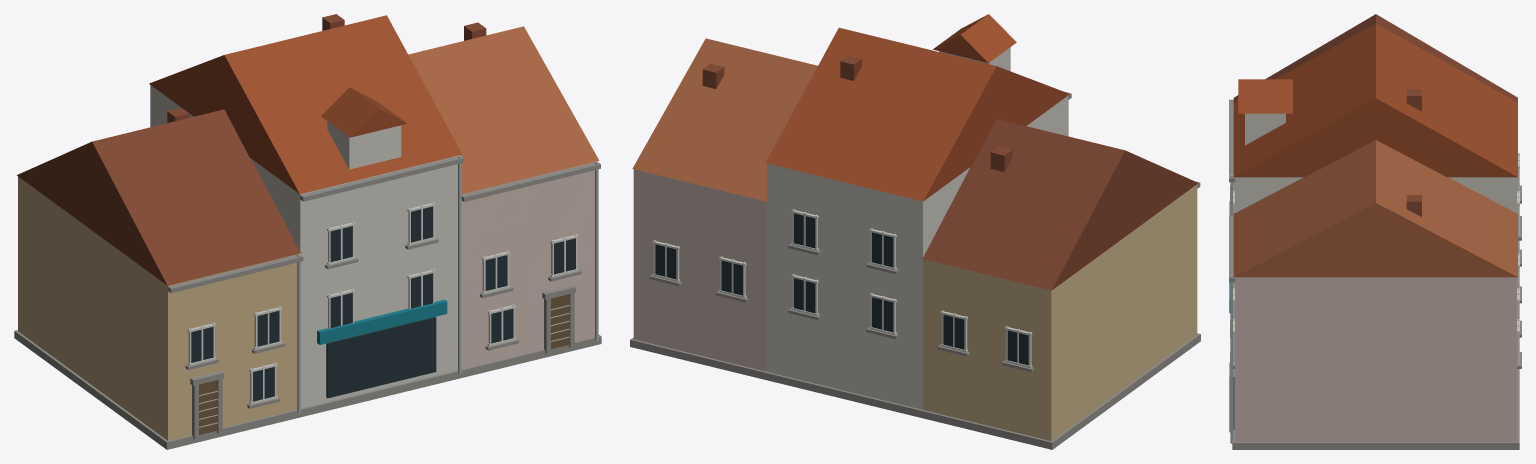
File: Scenery_Townhouse_Old.fbx
3 renders of one model, left to right at view 1: azimuth 30°, elevation 25°; view 2: azimuth 150°, elevation 25°; view 3: azimuth 270°, elevation 25°, orthographic. The views are drawn at different scales.
Visible parts, largest first — view 1: Scenery_Townhouse_Old_LOD0; view 2: Scenery_Townhouse_Old_LOD0; view 3: Scenery_Townhouse_Old_LOD0.
Part boxes in pixels (x1,y1,x2,y2): Scenery_Townhouse_Old_LOD0: (14, 14, 601, 449); Scenery_Townhouse_Old_LOD0: (630, 14, 1200, 449); Scenery_Townhouse_Old_LOD0: (1229, 14, 1521, 449).
Size of what is drawn, in the model's own units: 18.4 by 12.4 by 11.41.
